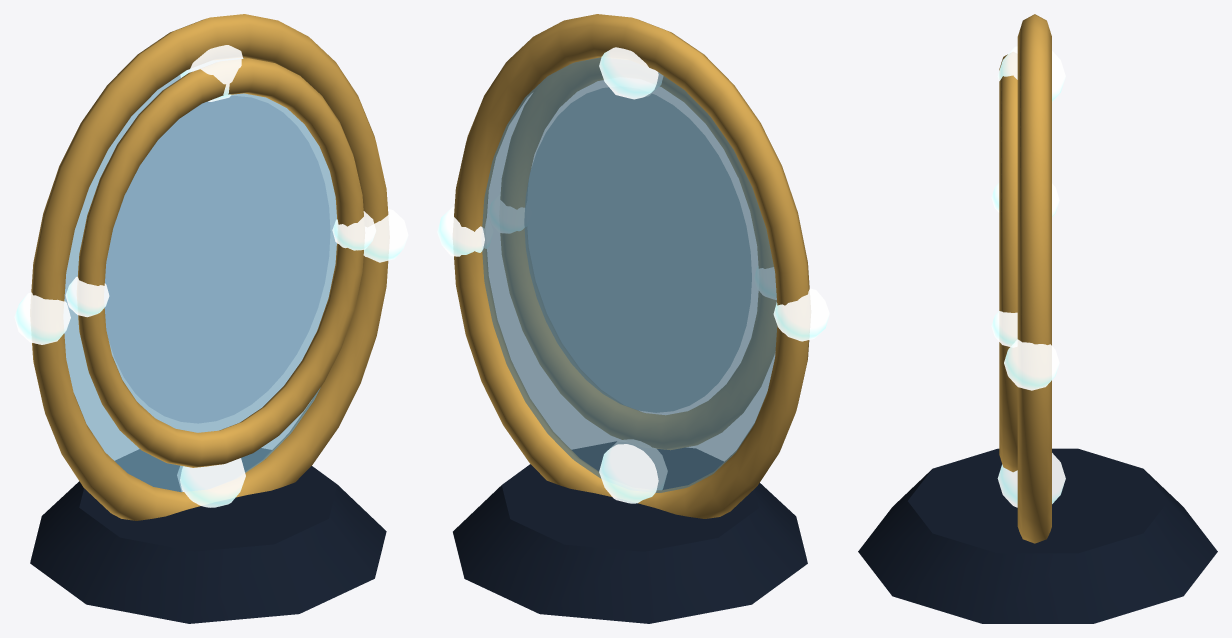
The model's file is mirror.glb.
The picture shows the model from 3 angles, left to right: view 1: azimuth 30°, elevation 25°; view 2: azimuth 150°, elevation 25°; view 3: azimuth 270°, elevation 25°; orthographic projection.
Visible parts, largest first — view 1: body, identity-mirror; view 2: body, identity-mirror; view 3: body, identity-mirror.
Boxes of the visible parts, x1=… form: body: x1=14, y1=14, x2=408, y2=623; identity-mirror: x1=65, y1=58, x2=376, y2=467; body: x1=437, y1=14, x2=829, y2=623; identity-mirror: x1=488, y1=58, x2=776, y2=449; body: x1=858, y1=14, x2=1217, y2=623; identity-mirror: x1=991, y1=54, x2=1017, y2=472.
Size of the model in its own units: 1.42 by 1.86 by 1.16.
